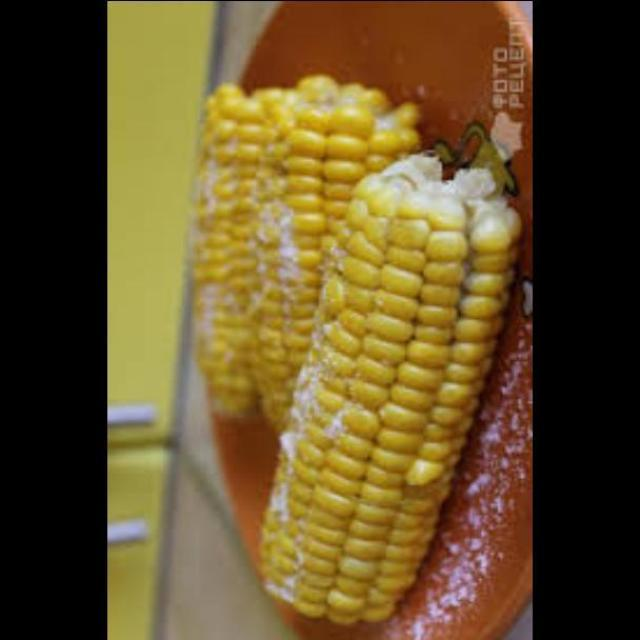corn: (252, 160, 524, 630), (191, 71, 422, 424)
